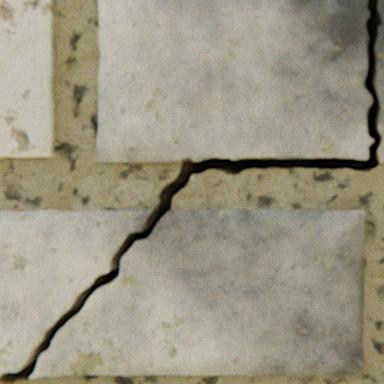brick: (0, 0, 56, 158)
broken_brick: (31, 209, 364, 377), (98, 0, 372, 162), (0, 209, 153, 375), (374, 0, 383, 163)
crack: (0, 0, 381, 383)
